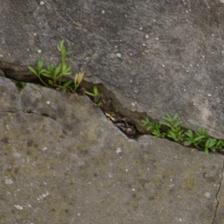Crack: (3, 29, 220, 131)
